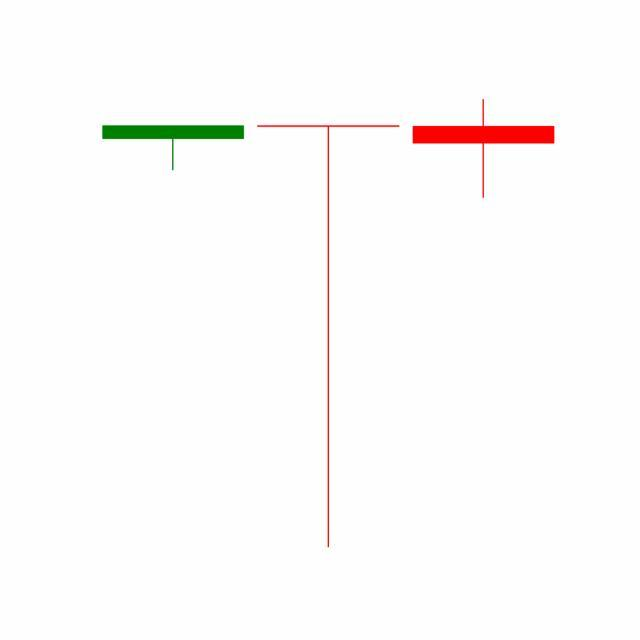Dragonfly Doji: (250, 122, 407, 553)
